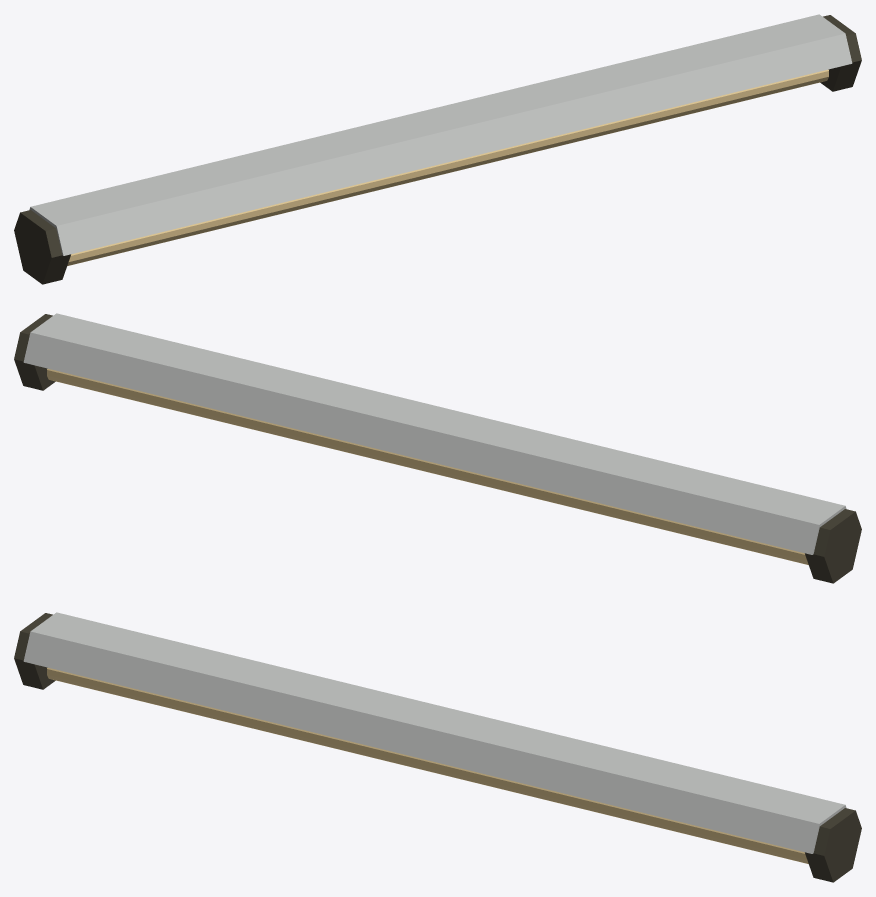
Rendered from SM_Cart_BaoTubeLight_01.fbx.
3 renders of one model, top to bottom at view 1: azimuth 30°, elevation 25°; view 2: azimuth 150°, elevation 25°; view 3: azimuth 330°, elevation 25°, orthographic.
Visible parts, largest first — view 1: SM_Cart_BaoTubeLight_01; view 2: SM_Cart_BaoTubeLight_01; view 3: SM_Cart_BaoTubeLight_01.
Part boxes in pixels (left/top/right/bottom): SM_Cart_BaoTubeLight_01: left=14, top=14, right=861, bottom=284; SM_Cart_BaoTubeLight_01: left=14, top=313, right=861, bottom=583; SM_Cart_BaoTubeLight_01: left=14, top=612, right=861, bottom=882.
Size of the model in its own units: 1.22 by 0.084 by 0.104.
1 material, 1 textured.
